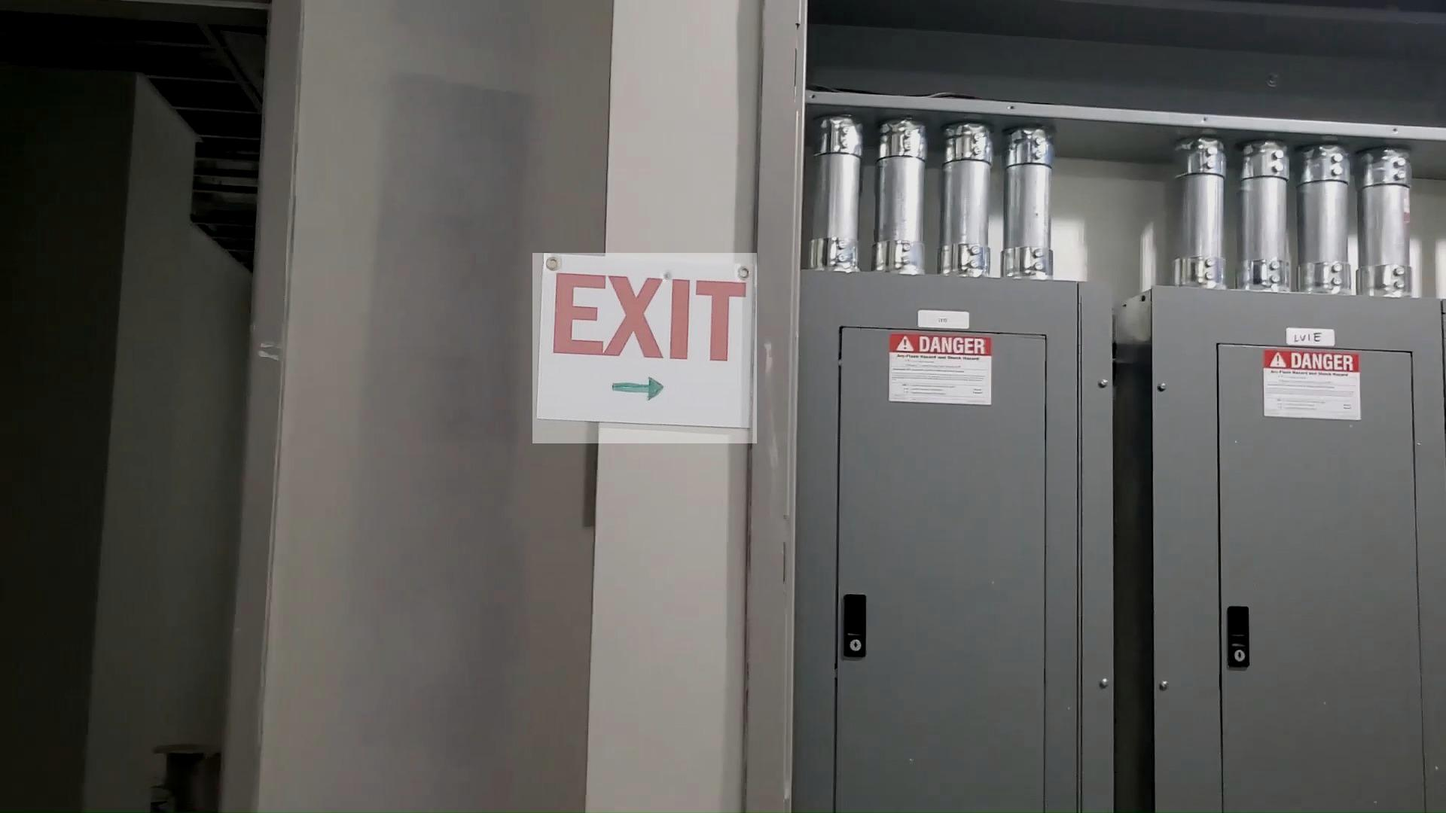exit_sign: (532, 253, 757, 443)
